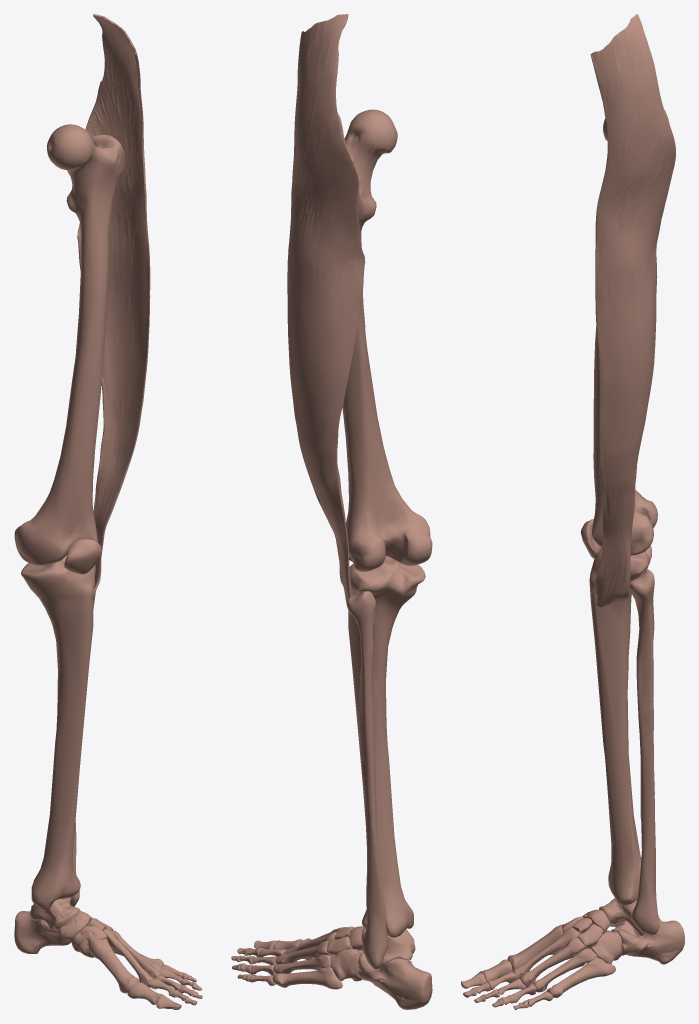
File: left-leg-0.glb
3 views of the same model, side by side, from view 1: azimuth 30°, elevation 25°; view 2: azimuth 210°, elevation 25°; view 3: azimuth 270°, elevation 25° (orthographic). The views are drawn at different scales.
Parts seen in each view (by area): view 1: FJ1423M, FJ3259, FJ3282, FJ3256, FJ3241, FJ3275, FJ3280, FJ3271, FJ3244, FJ3307; view 2: FJ1423M, FJ3259, FJ3282, FJ3260, FJ3256, FJ3253, FJ3258, FJ3280, FJ3250, FJ3247; view 3: FJ1423M, FJ3282, FJ3260, FJ3259, FJ3256, FJ3253, FJ3247, FJ3250, FJ3241, FJ3258, FJ3244, FJ3280.
Boxes of the visible parts, x1,y1,x2,y2 form: FJ1423M: (77,14,150,608); FJ3259: (14,124,125,565); FJ3282: (21,555,95,910); FJ3256: (14,911,71,953); FJ3241: (91,938,139,993); FJ3275: (64,539,101,574); FJ3280: (30,897,80,931); FJ3271: (71,925,106,957); FJ3244: (103,927,153,987); FJ3307: (59,910,91,939); FJ1423M: (287,14,365,613); FJ3259: (342,109,432,571); FJ3282: (348,556,425,937); FJ3260: (347,591,387,969); FJ3256: (358,952,432,1009); FJ3253: (272,967,342,989); FJ3258: (330,948,363,981); FJ3280: (362,929,415,968); FJ3250: (273,954,331,973); FJ3247: (275,941,335,964); FJ1423M: (590,14,675,607); FJ3282: (589,546,651,905); FJ3260: (629,569,659,935); FJ3259: (592,119,657,555); FJ3256: (611,917,684,964); FJ3253: (546,957,615,997); FJ3247: (519,937,585,987); FJ3250: (532,948,597,992); FJ3241: (507,924,563,970); FJ3258: (590,930,622,964); FJ3244: (512,927,580,979); FJ3280: (599,898,658,935).
Size of the model in its own units: 0.1374 by 1.02 by 0.2117.
